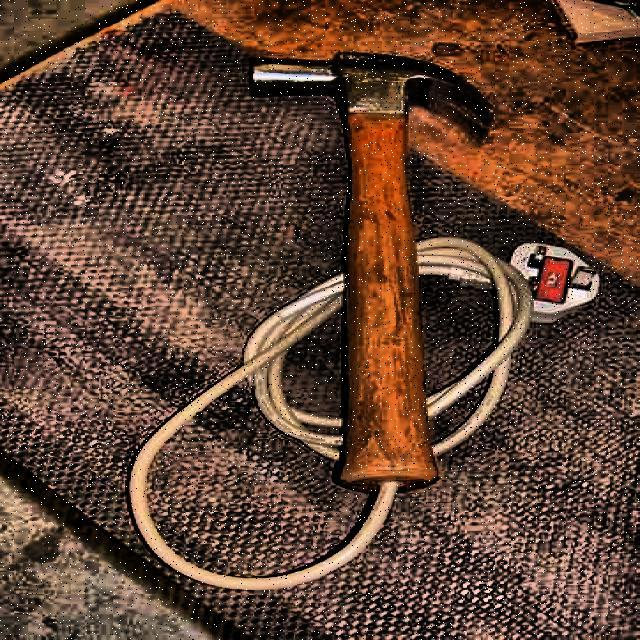hammer: (247, 49, 509, 493)
